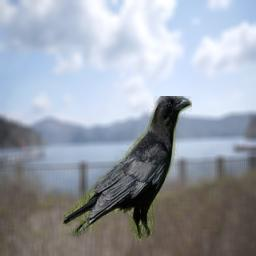Crow: (62, 96, 192, 241)
